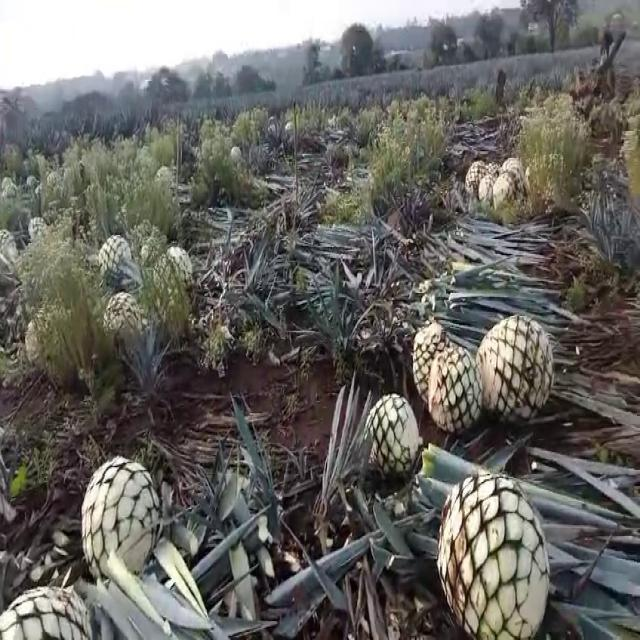agave: (433, 467, 553, 640), (80, 448, 161, 583), (474, 309, 556, 427), (1, 579, 96, 640), (361, 392, 423, 482), (425, 350, 482, 430), (412, 321, 456, 412), (102, 288, 144, 346), (160, 241, 196, 297), (97, 232, 133, 282), (464, 155, 486, 197), (501, 155, 525, 191), (494, 173, 512, 208), (480, 176, 496, 208)
